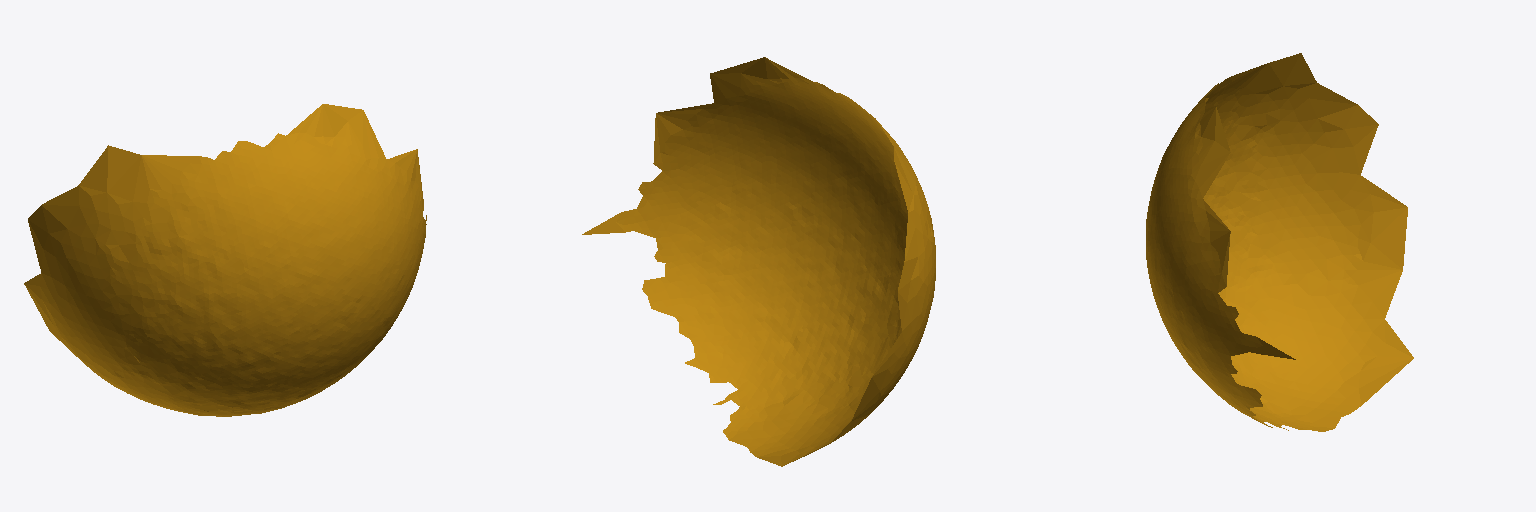
File: CameraFocus_M12.000001.obj
3 renders of one model, left to right at view 1: azimuth 30°, elevation 25°; view 2: azimuth 150°, elevation 25°; view 3: azimuth 270°, elevation 25°, orthographic.
Visible parts, largest first — view 1: CameraFocus_M12.000001; view 2: CameraFocus_M12.000001; view 3: CameraFocus_M12.000001.
Boxes of the visible parts, x1=… form: CameraFocus_M12.000001: x1=24, y1=104, x2=426, y2=416; CameraFocus_M12.000001: x1=582, y1=57, x2=935, y2=466; CameraFocus_M12.000001: x1=1146, y1=53, x2=1413, y2=431.
Size of the model in its own units: 162 by 144 by 105.